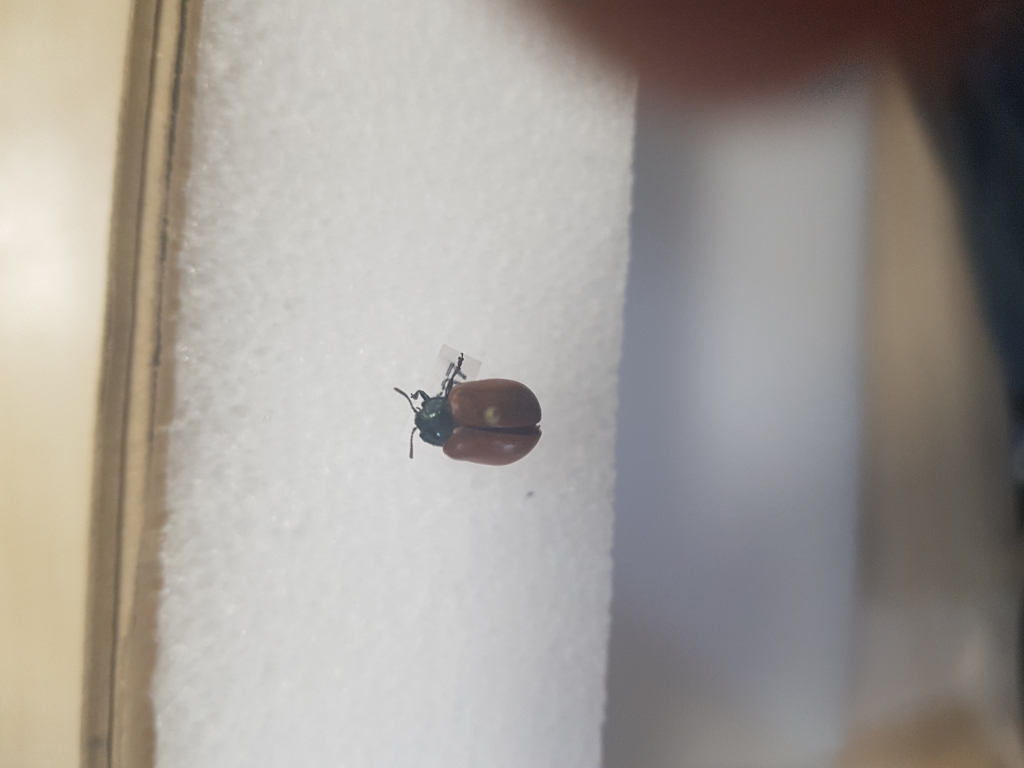Chrysomela_populi: (388, 371, 545, 470)
